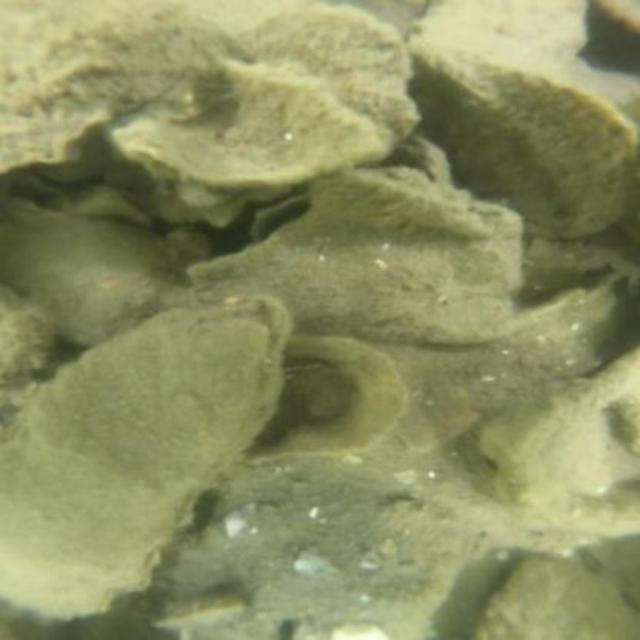Oyster-Closed: (0, 302, 294, 632), (187, 170, 541, 342), (166, 465, 484, 638), (410, 34, 638, 229), (124, 64, 396, 224), (8, 0, 231, 169), (220, 4, 420, 146), (230, 330, 416, 466), (10, 202, 166, 344), (425, 0, 638, 101), (308, 170, 492, 244), (477, 557, 638, 638), (0, 282, 52, 380), (585, 0, 638, 48)
